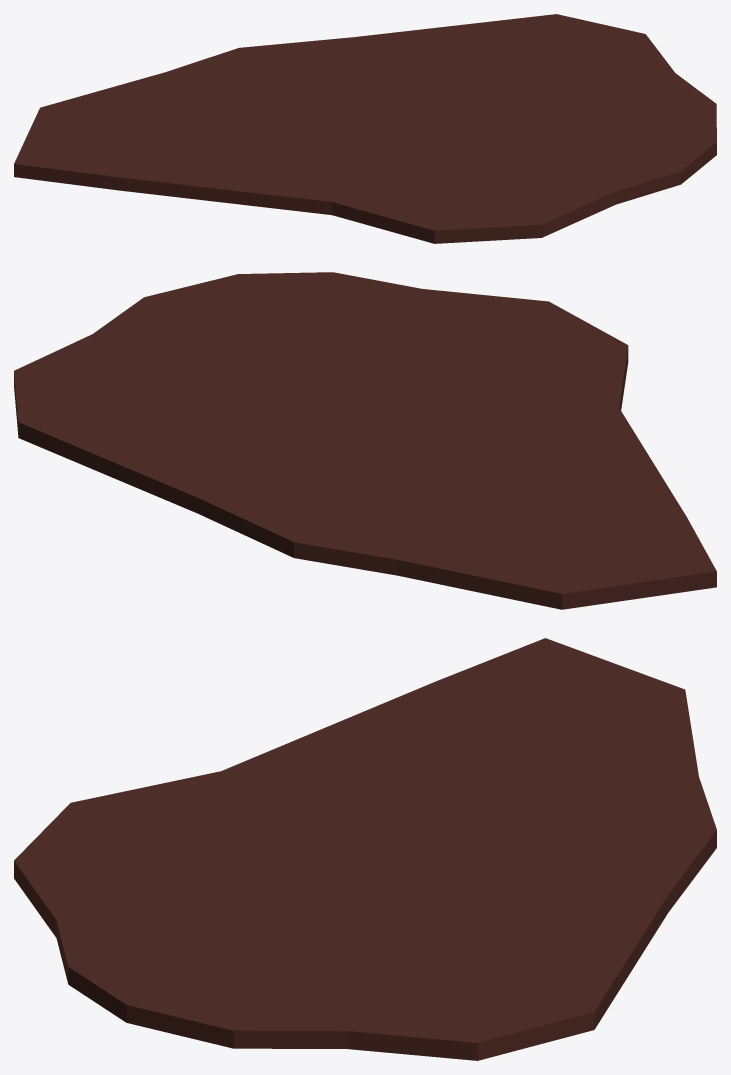
File: puddleOfCoffe1.fbx
3 renders of one model, top to bottom at view 1: azimuth 30°, elevation 25°; view 2: azimuth 150°, elevation 25°; view 3: azimuth 270°, elevation 25°, orthographic. The views are drawn at different scales.
Visible parts, largest first — view 1: Plane.002; view 2: Plane.002; view 3: Plane.002.
Boxes of the visible parts, x1,y1,x2,y2 form: Plane.002: (14, 14, 716, 243); Plane.002: (14, 272, 716, 609); Plane.002: (14, 638, 716, 1060).
Bounding box in the file's own units: 58.07 × 1.2 × 42.6.
